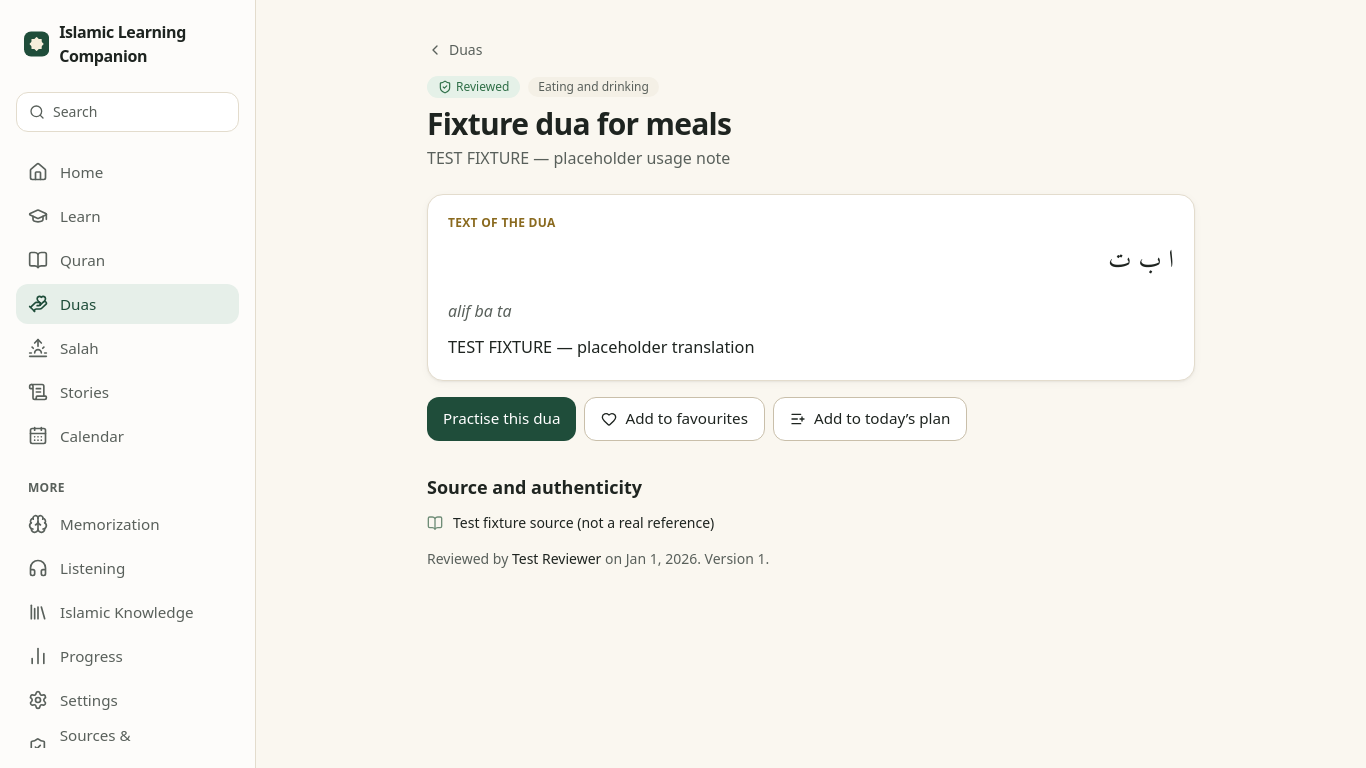
it: dua library › adds a dua to favourites and to today’s plan
This screenshot has width=1366, height=768.
Click the button "Add to favourites": (675, 418) [584, 396, 765, 440]
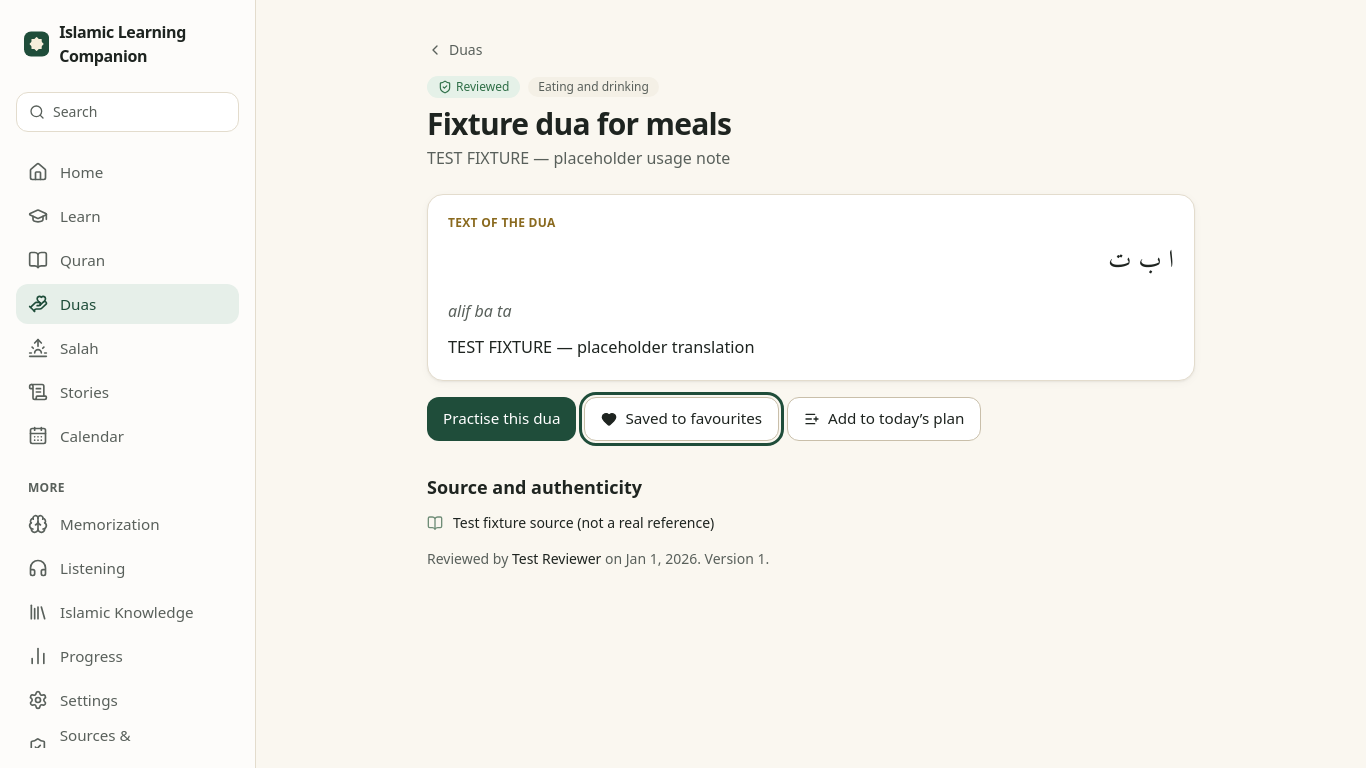
Click the button "Add to today’s plan": (884, 418) [787, 396, 981, 440]
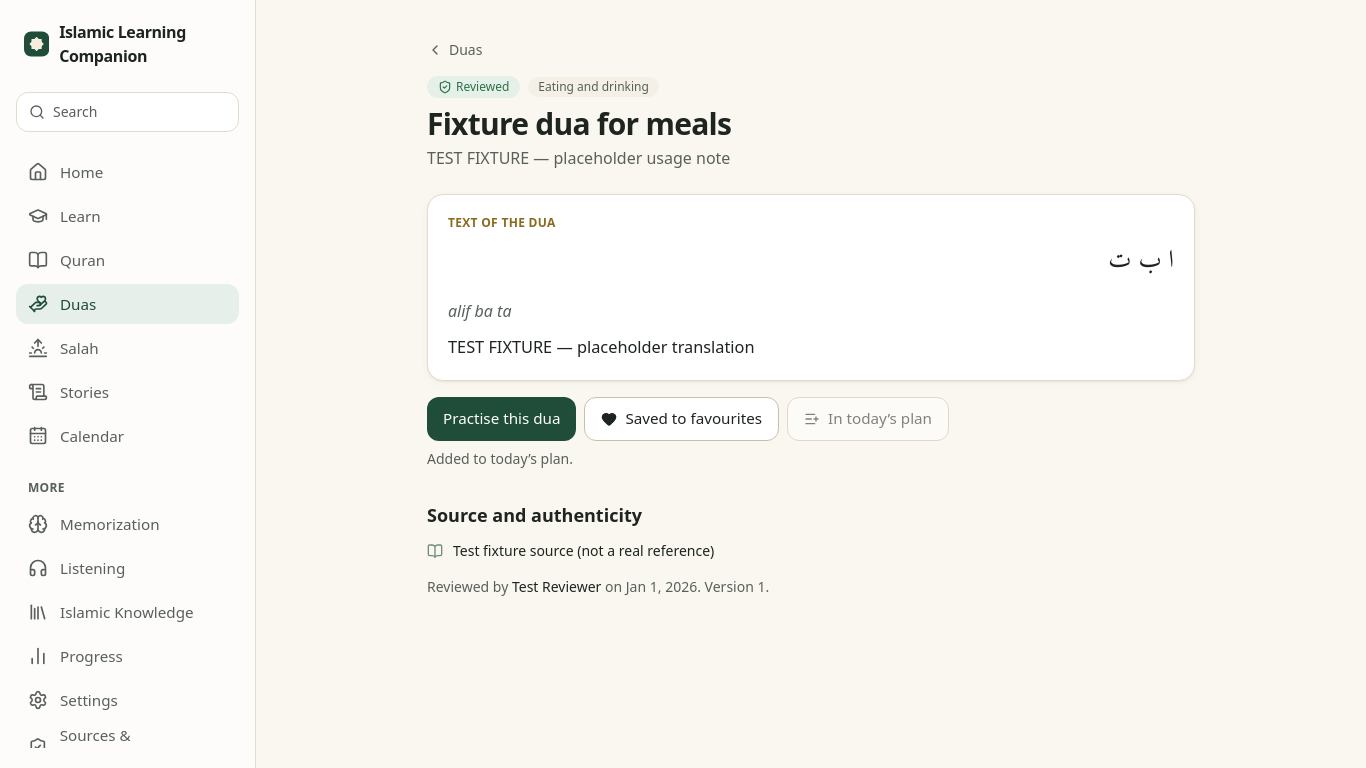
Check: the button "In today’s plan" is disabled, box [787, 396, 949, 440]
